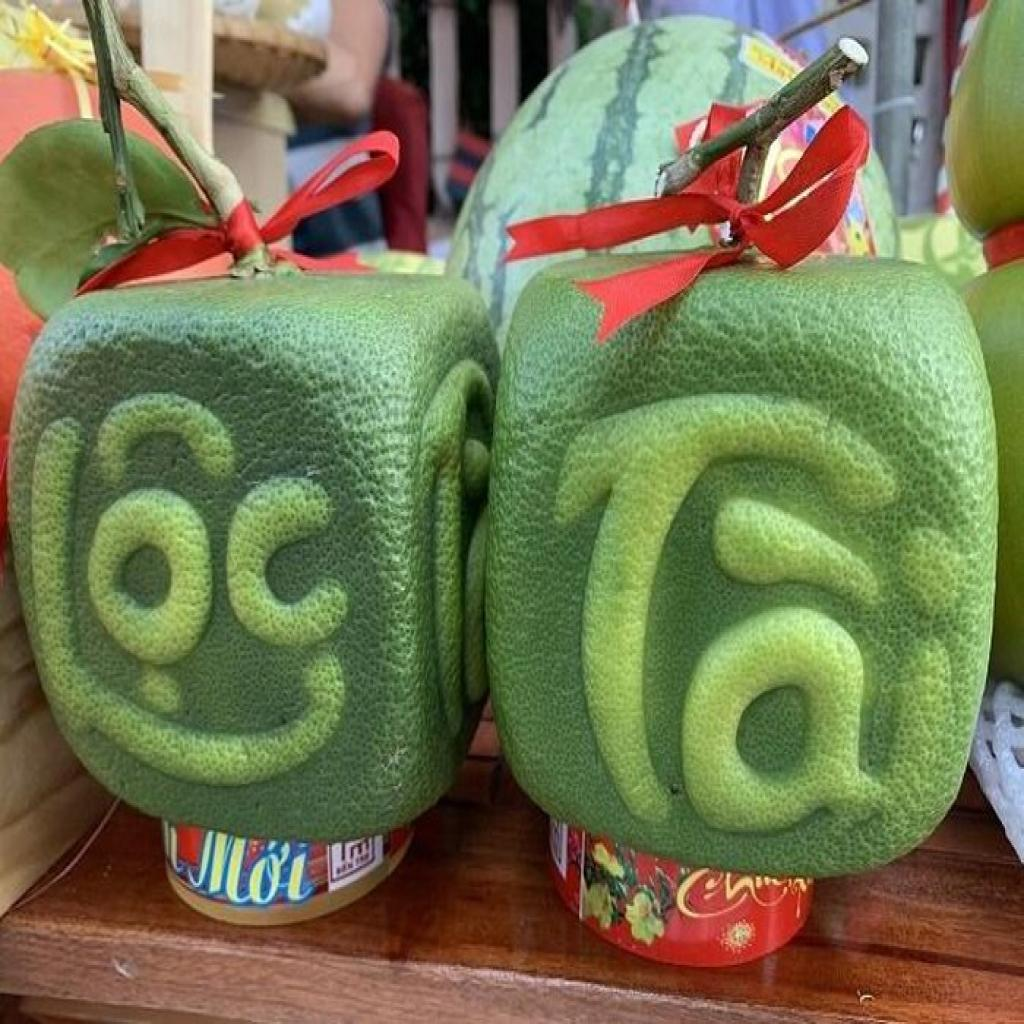text: (552, 375, 983, 855), (16, 379, 366, 799), (178, 824, 319, 914), (673, 860, 761, 934), (345, 836, 373, 864)
